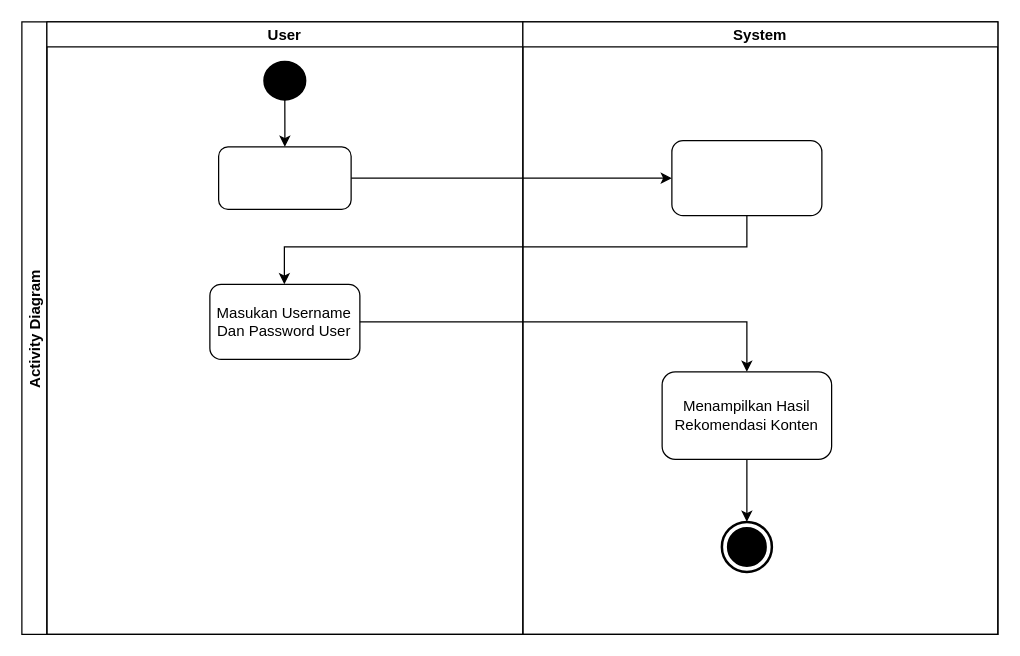
The diagram is 1020 pixels wide and 656 high, and some of its shapes have lost their labels. Here are the shapes that lost their labels. From the top down, the centre of each, then its label:
the point at 284,177: Membuka Website
the point at 746,177: Menampilkan Tampilan Login Akun
